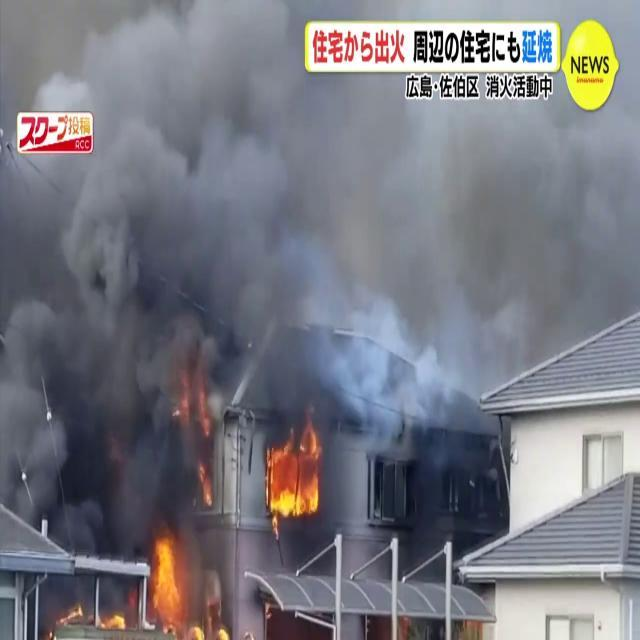Fire: (147, 522, 226, 638), (262, 416, 326, 525)
Smoke: (0, 0, 640, 426)
